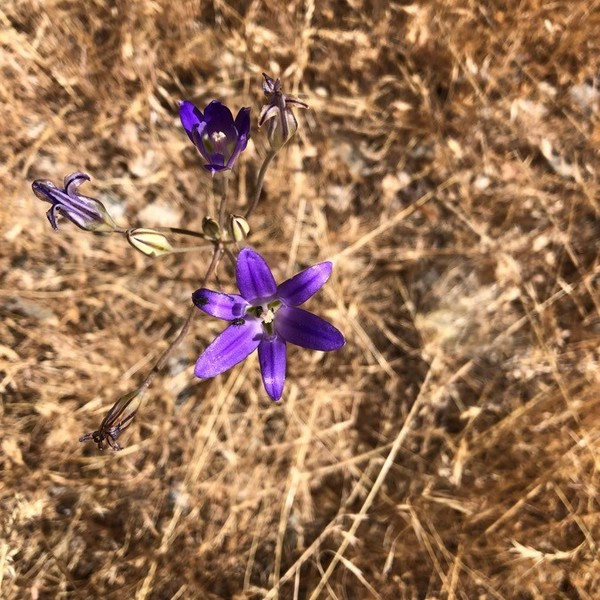obstacle: (46, 90, 357, 398)
